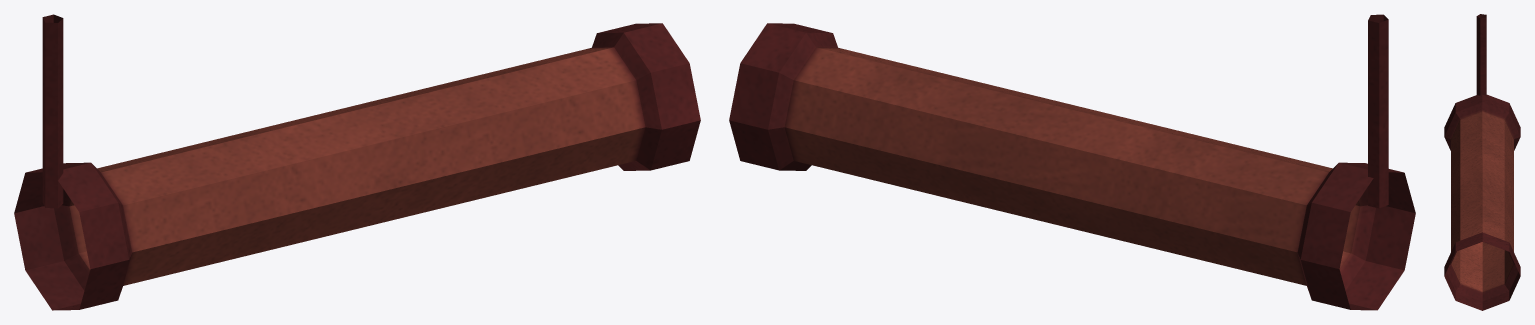
The model's file is pipe_straight.fbx.
The picture shows the model from 3 angles, left to right: view 1: azimuth 30°, elevation 25°; view 2: azimuth 150°, elevation 25°; view 3: azimuth 270°, elevation 25°; orthographic projection. The views are drawn at different scales.
Visible parts, largest first — view 1: pipe_straight; view 2: pipe_straight; view 3: pipe_straight.
Boxes of the visible parts, x1,y1,x2,y2 form: pipe_straight: [14, 14, 700, 310]; pipe_straight: [729, 14, 1415, 310]; pipe_straight: [1444, 14, 1520, 310].
Bounding box in the file's own units: 87.39 × 39.32 × 18.65.
